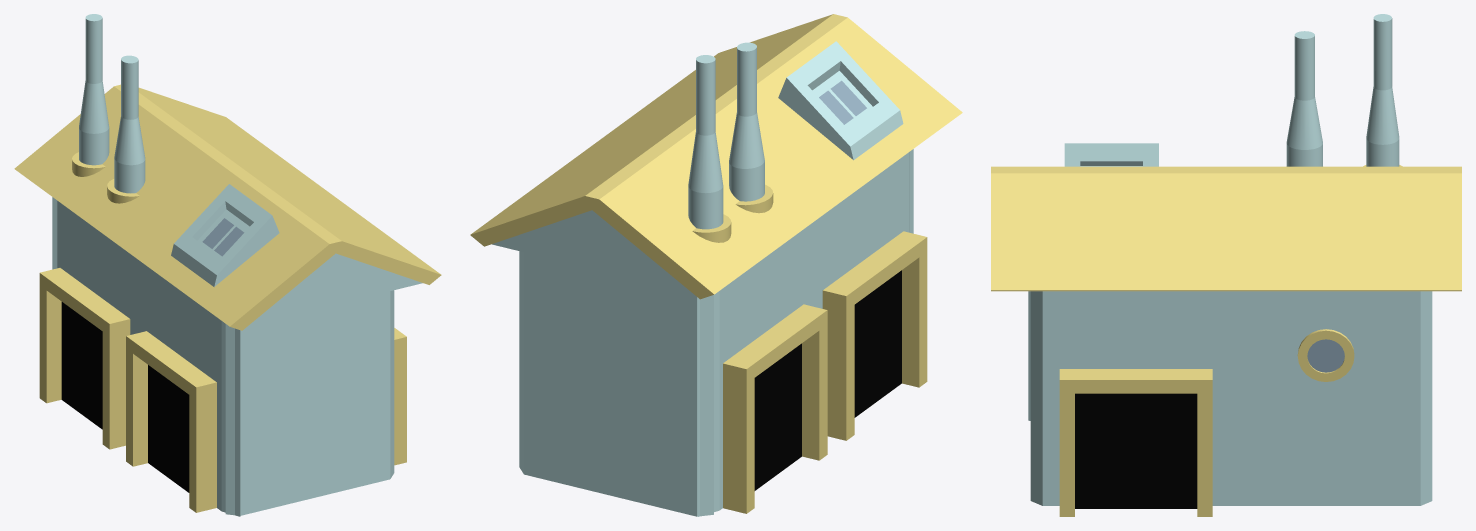
Rendered from factory_3.fbx.
3 views of the same model, side by side, from view 1: azimuth 30°, elevation 25°; view 2: azimuth 150°, elevation 25°; view 3: azimuth 270°, elevation 25° (orthographic). The views are drawn at different scales.
Visible parts, largest first — view 1: mergedBlocks; view 2: mergedBlocks; view 3: mergedBlocks.
Boxes of the visible parts, <box> form: mergedBlocks: <box>14,14,441,516</box>; mergedBlocks: <box>470,14,962,516</box>; mergedBlocks: <box>991,14,1461,516</box>.
Size of the model in its own units: 14.22 by 24 by 24.9.
